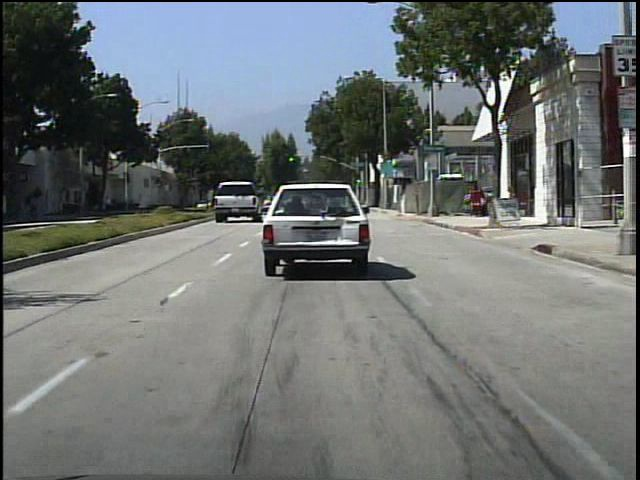person: (27, 195, 46, 226)
